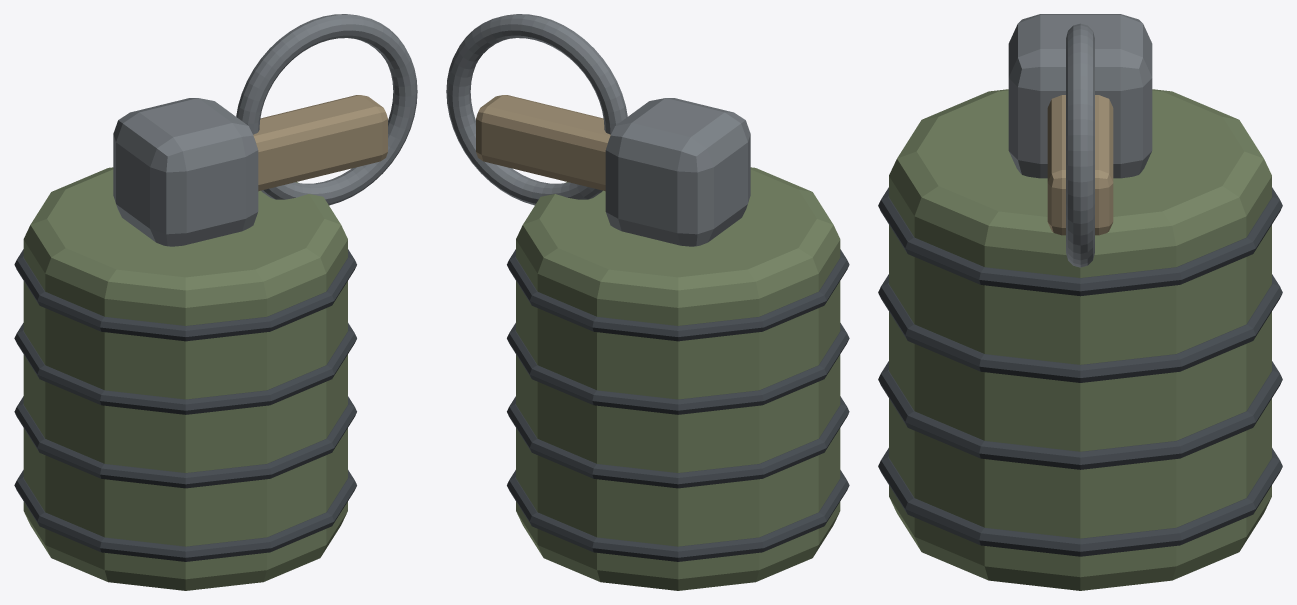
The model's file is grenade.glb.
3 views of the same model, side by side, from view 1: azimuth 30°, elevation 25°; view 2: azimuth 150°, elevation 25°; view 3: azimuth 270°, elevation 25° (orthographic). The views are drawn at different scales.
Parts seen in each view (by area): view 1: Frag body, Fuse, Safety pin, Safety lever, Fragment ring.003, Fragment ring, Fragment ring.002, Fragment ring.001; view 2: Frag body, Fuse, Safety pin, Safety lever, Fragment ring.003, Fragment ring, Fragment ring.002, Fragment ring.001; view 3: Frag body, Fuse, Fragment ring.001, Fragment ring.002, Fragment ring, Fragment ring.003, Safety pin, Safety lever.
Boxes of the visible parts, x1,y1,x2,y2 form: Frag body: (23,167,347,590); Fuse: (113,98,258,246); Safety pin: (236,14,417,205); Safety lever: (253,95,387,191); Fragment ring.003: (14,249,356,341); Fragment ring: (14,470,356,561); Fragment ring.002: (14,323,356,414); Fragment ring.001: (14,396,356,488); Frag body: (516,167,840,590); Fuse: (605,98,750,246); Safety pin: (446,14,627,205); Safety lever: (476,95,610,191); Fragment ring.003: (507,249,849,341); Fragment ring: (507,470,849,561); Fragment ring.002: (507,323,849,414); Fragment ring.001: (507,396,849,488); Frag body: (889,89,1271,590); Fuse: (1008,14,1152,178); Fragment ring.001: (878,361,1282,469); Fragment ring.002: (878,274,1282,382); Fragment ring: (878,448,1282,556); Fragment ring.003: (878,187,1282,296); Safety pin: (1066,23,1094,267); Safety lever: (1047,95,1113,235).
Bounding box in the file's own units: 0.431 × 0.522 × 0.338.
